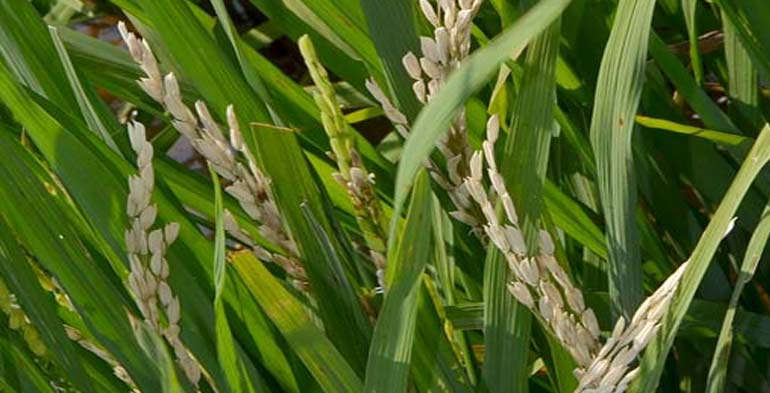Weed: (161, 80, 278, 211), (419, 22, 503, 198), (548, 298, 664, 386), (119, 219, 188, 346)
